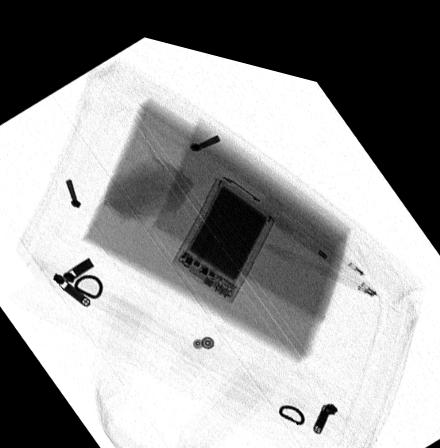Powerbank: (169, 165, 275, 291)
